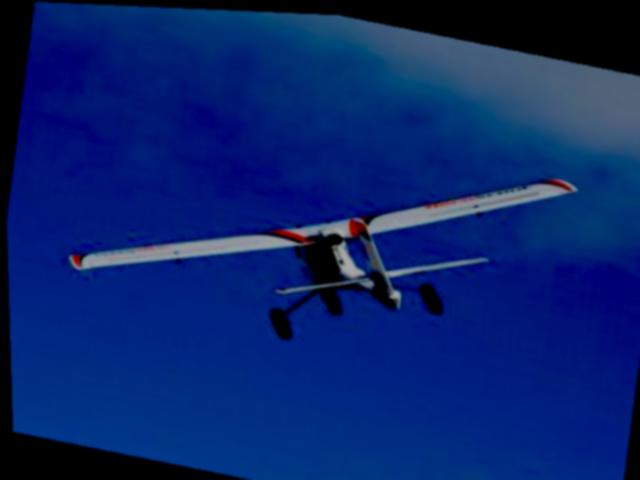uav: (58, 82, 584, 369)
